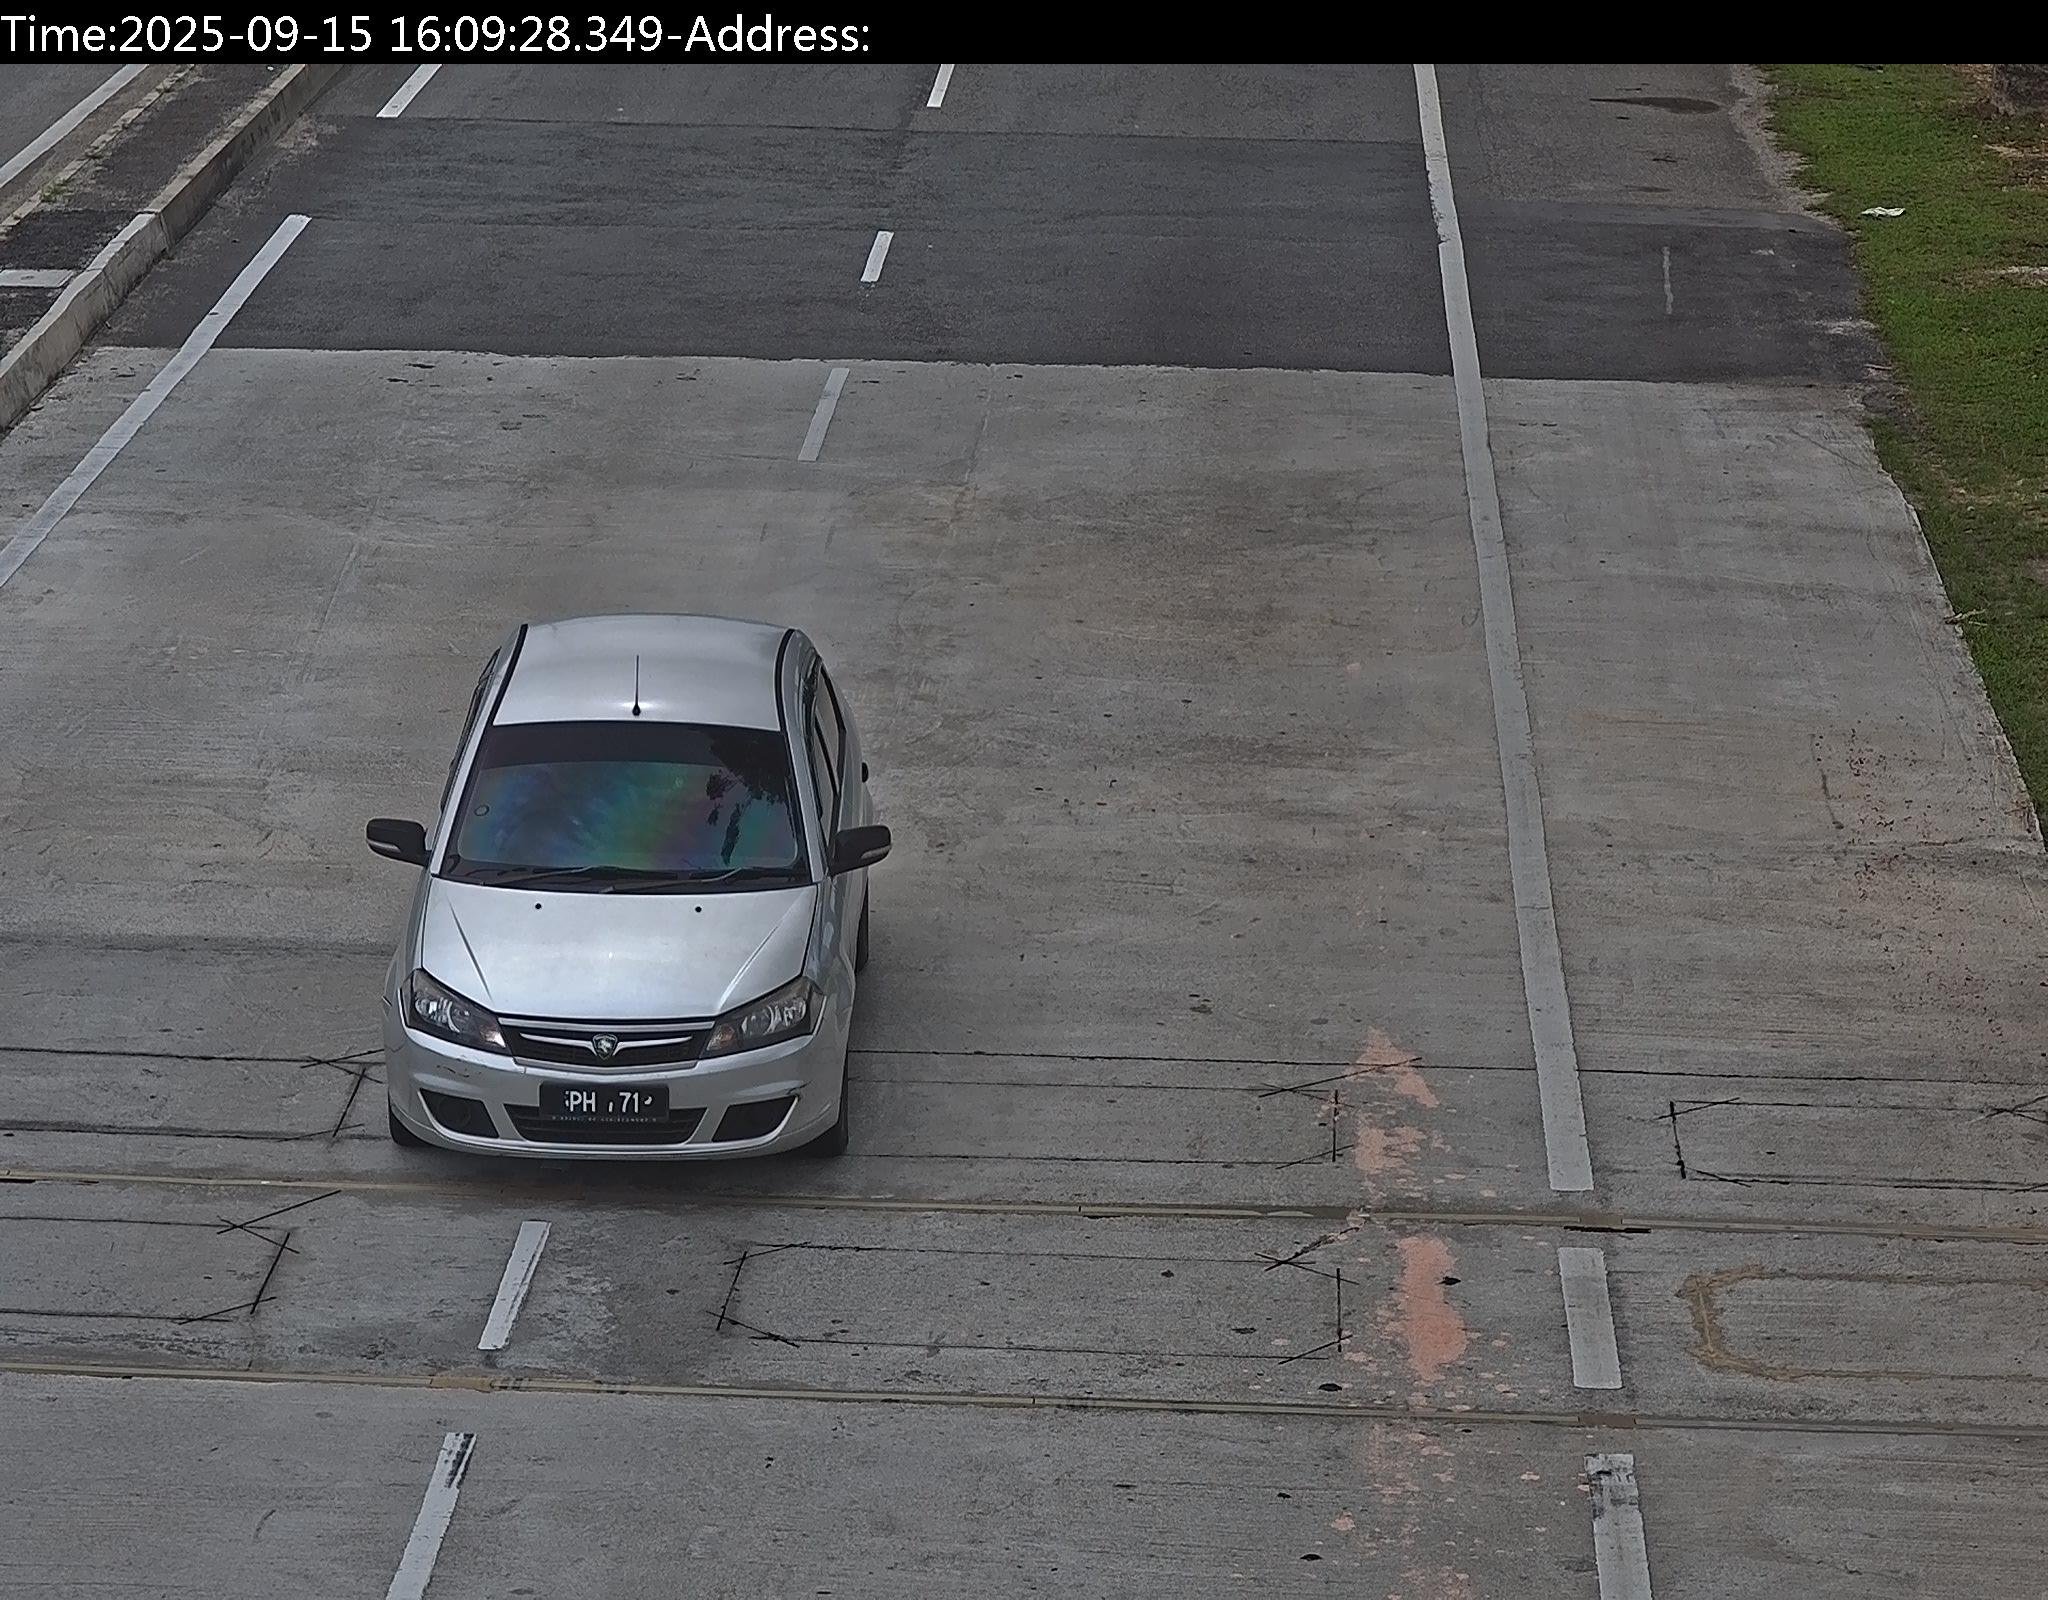broken: (549, 1086, 665, 1128)
